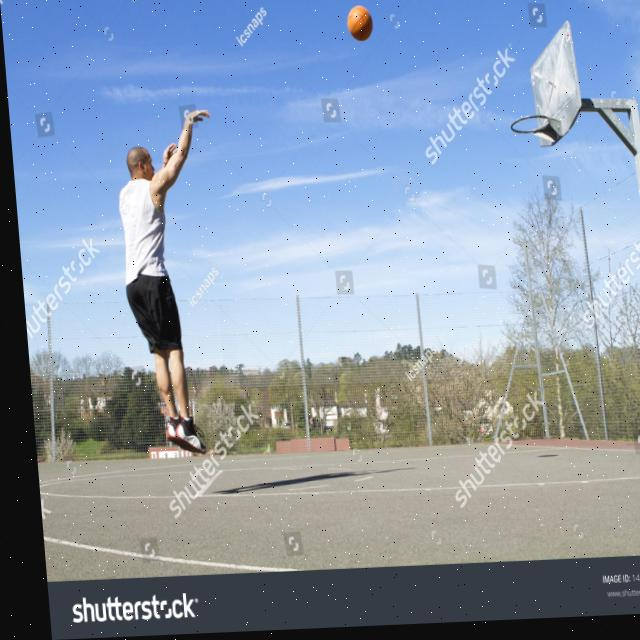basketball: (346, 5, 373, 42)
hoop: (510, 114, 550, 134)
